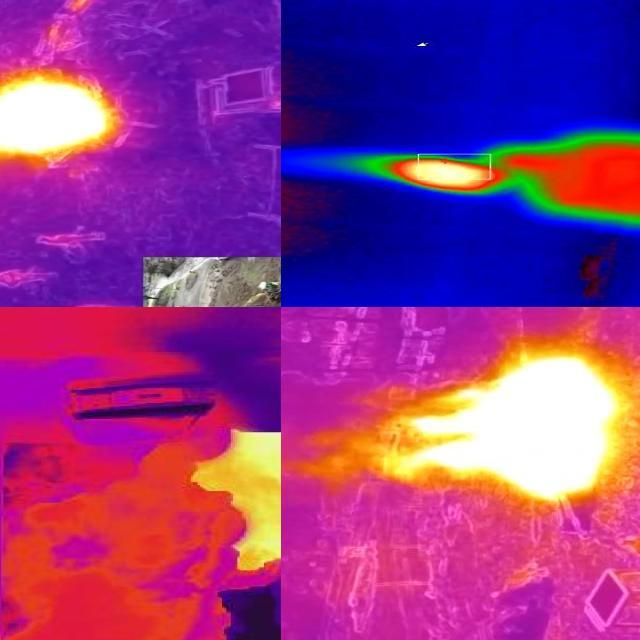fire: (380, 354, 627, 500), (187, 417, 282, 593), (1, 77, 119, 168), (371, 153, 507, 193)
